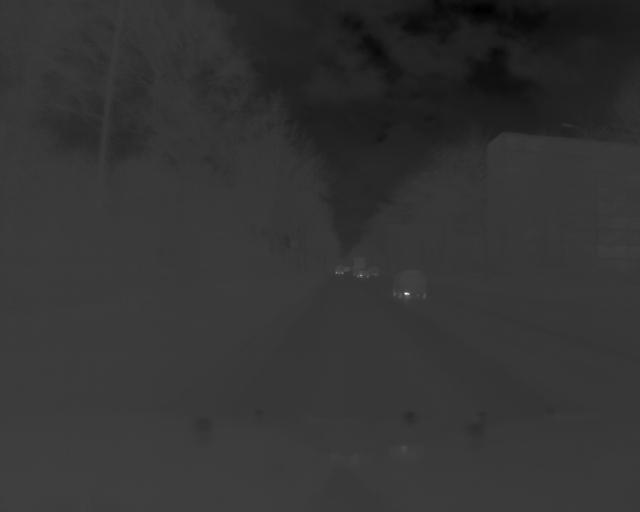car: (391, 271, 429, 300)
